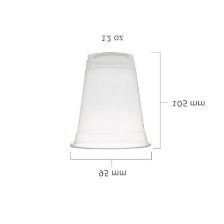glass: (62, 49, 159, 151)
